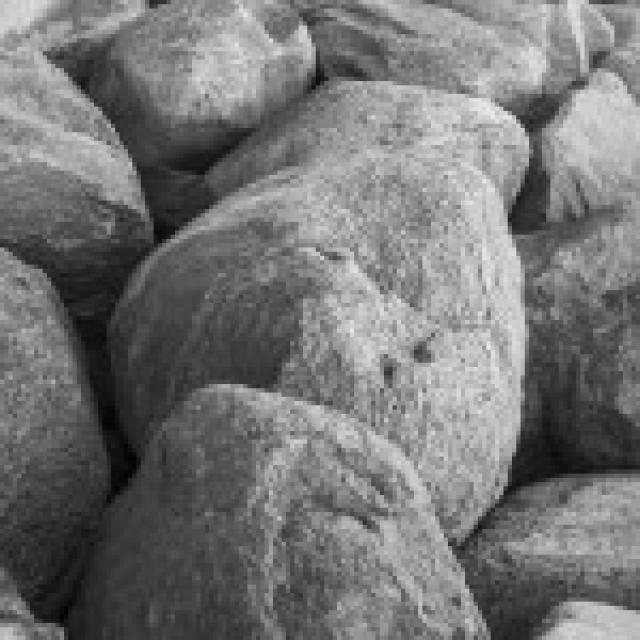Stone: (111, 81, 533, 544), (72, 388, 490, 640), (0, 47, 154, 320), (0, 252, 111, 618), (90, 0, 316, 171), (461, 473, 640, 638), (299, 0, 550, 115), (533, 205, 640, 469), (546, 68, 640, 226)
